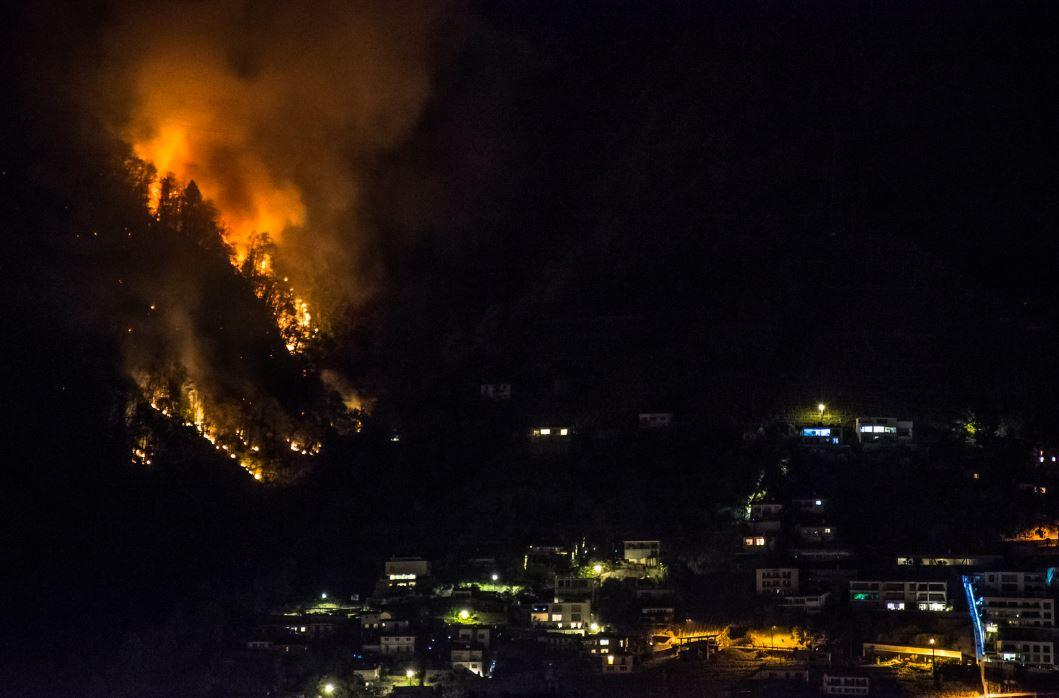fire: (135, 135, 182, 195)
